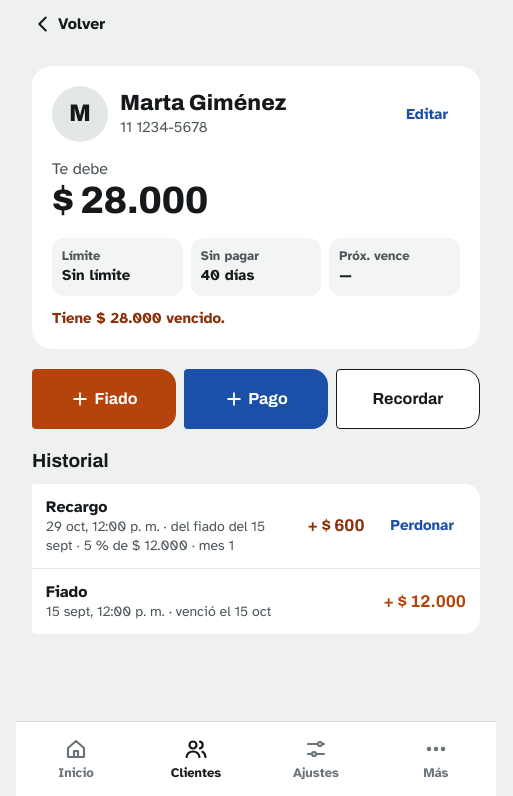
historial: recargos › cada recargo dice de qué fiado es y se perdona con dos toques
Expected: the text "del fiado del 15 sept · 5 % de $ 12.000 · mes 1" is shown, [46,518,265,554]
What coordinates should you click on to do the following:
click the button "Perdonar"
I would click on:
 (422, 526)
Its box is [378,504,466,548].
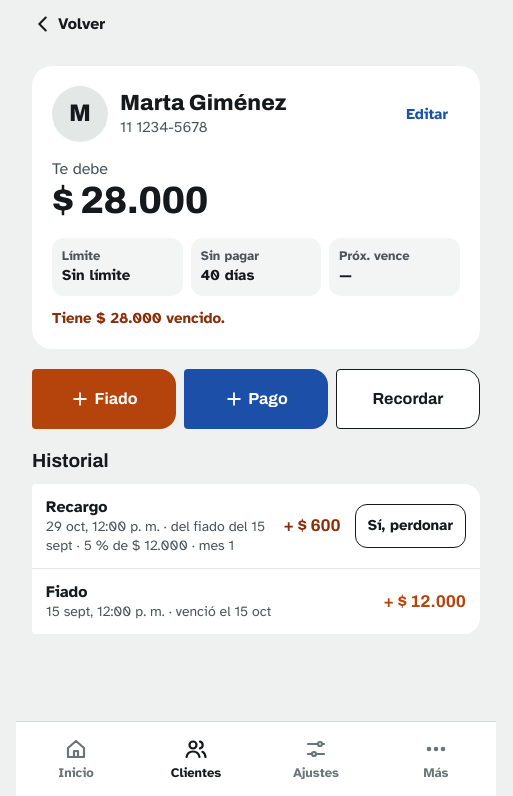
What coordinates should you click on to do the following:
click the button "Sí, perdonar"
I would click on:
 (410, 526)
Its box is [355,504,466,548].
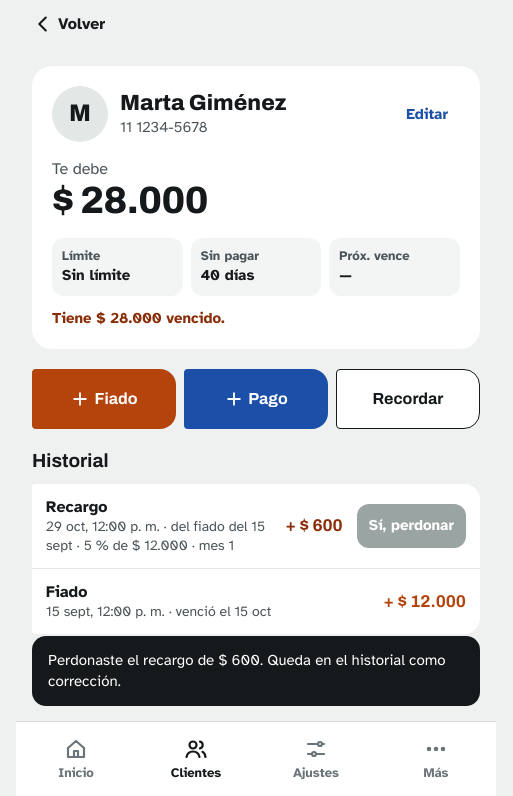
Expected: the text "Perdonaste el recargo de $ 600" is shown, [48,651,446,690]
